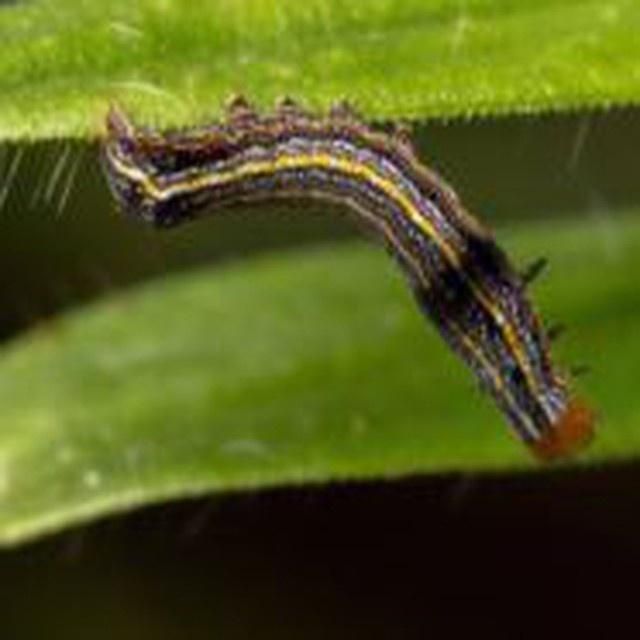gusano_cogollero: (95, 83, 602, 470)
